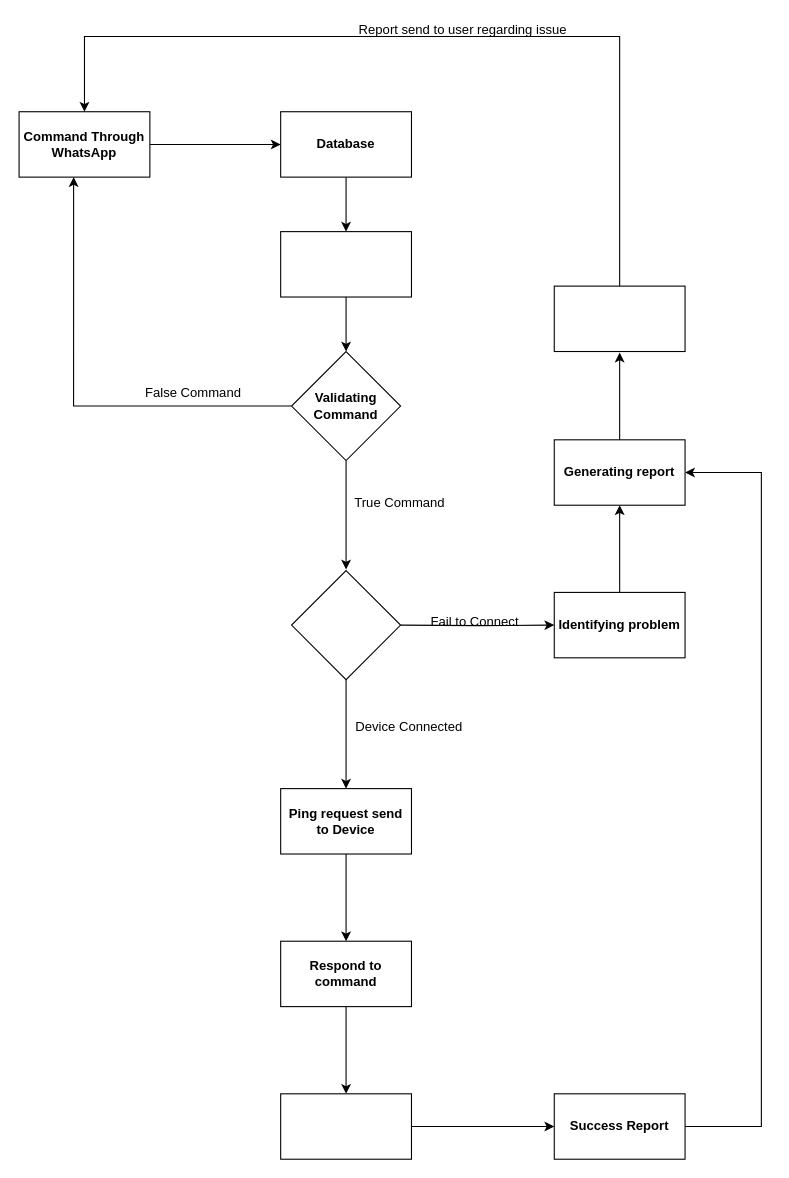
The diagram is 789 pixels wide and 1178 high, and some of its shapes have lost their labels. Each missing label, with the centre of its shape:
"Connecting Device" belongs at (x=345, y=625).
"Identify user Intent and entity" belongs at (x=345, y=264).
"Managing the report" belongs at (x=619, y=318).
"Task Successful" belongs at (x=345, y=1126).
